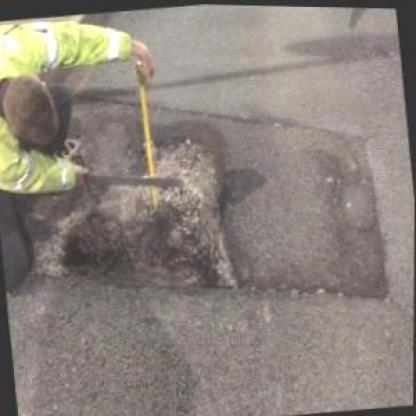pothole: (127, 111, 247, 301)
